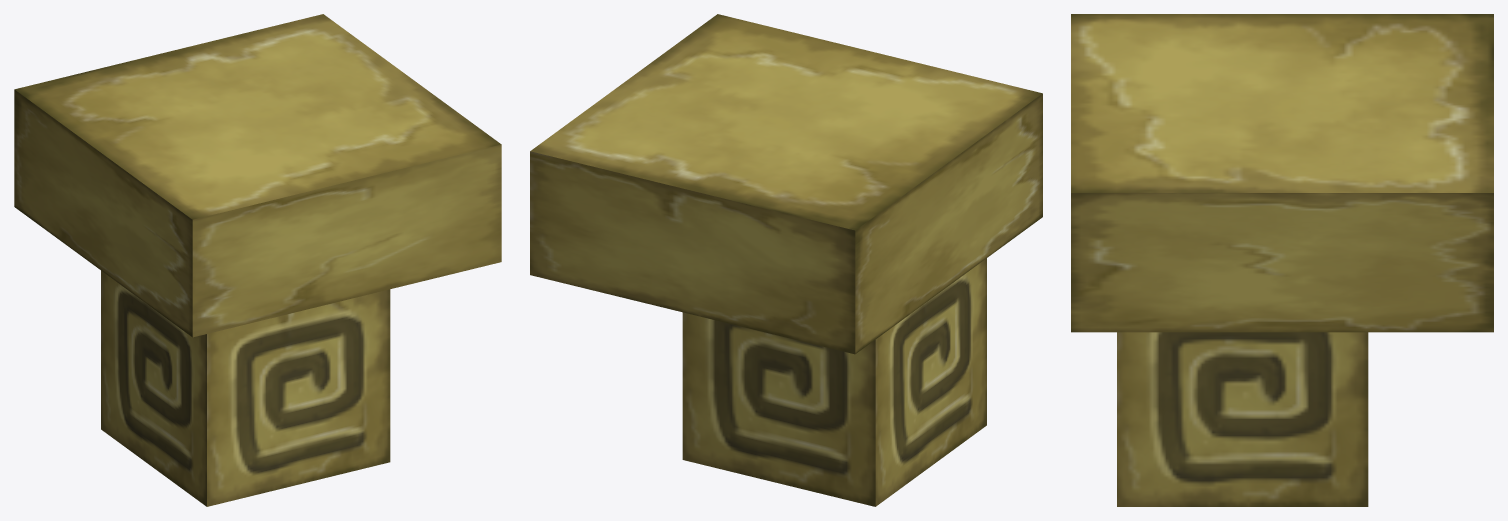
File: Fence Dark Corner Block.fbx
3 renders of one model, left to right at view 1: azimuth 30°, elevation 25°; view 2: azimuth 150°, elevation 25°; view 3: azimuth 270°, elevation 25°, orthographic. The views are drawn at different scales.
Parts seen in each view (by area): view 1: Fence Dark Corner Block; view 2: Fence Dark Corner Block; view 3: Fence Dark Corner Block.
Boxes of the visible parts, bbox=[...] form: Fence Dark Corner Block: bbox=[14, 14, 501, 506]; Fence Dark Corner Block: bbox=[530, 14, 1042, 506]; Fence Dark Corner Block: bbox=[1071, 14, 1493, 506].
Size of the model in its own units: 3.37 by 3.23 by 3.37.
